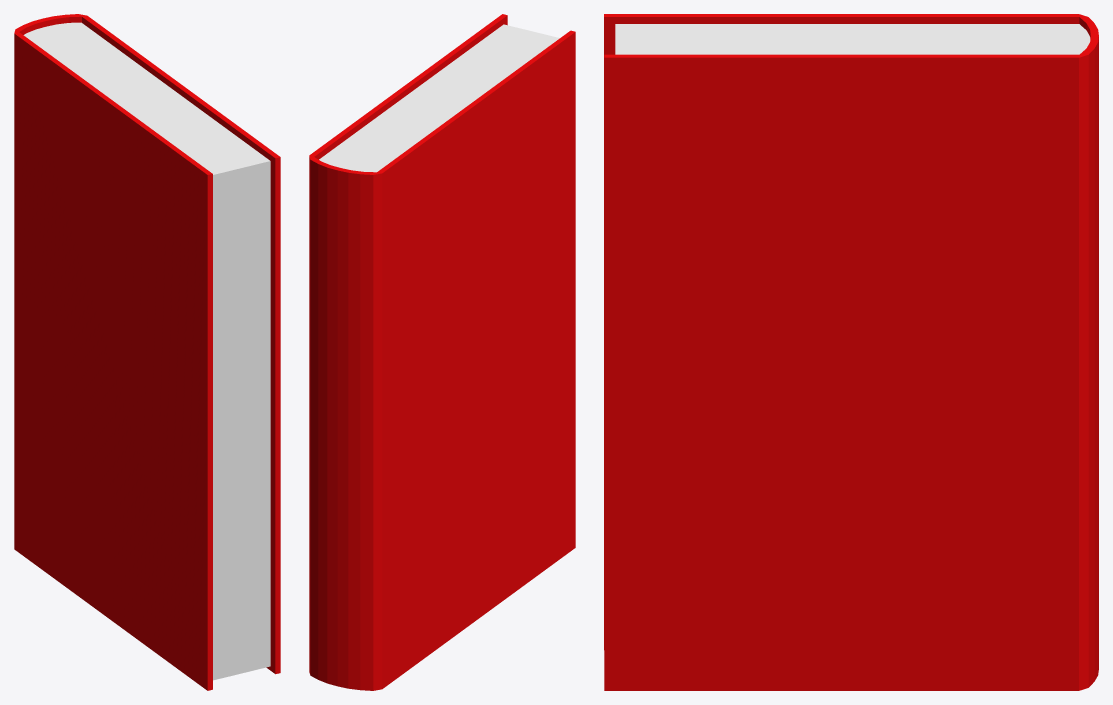
File: Book.fbx
3 renders of one model, left to right at view 1: azimuth 30°, elevation 25°; view 2: azimuth 150°, elevation 25°; view 3: azimuth 270°, elevation 25°, orthographic. The views are drawn at different scales.
Visible parts, largest first — view 1: Cover, Pages; view 2: Cover, Pages; view 3: Cover, Pages.
Boxes of the visible parts, box(x1,y1,x2,y2) form: Cover: box(14, 14, 280, 690); Pages: box(23, 22, 270, 680); Cover: box(309, 14, 575, 690); Pages: box(319, 24, 559, 172); Cover: box(604, 14, 1098, 690); Pages: box(615, 24, 1090, 54).
Size of the model in its own units: 12.14 by 81.83 by 57.97.
